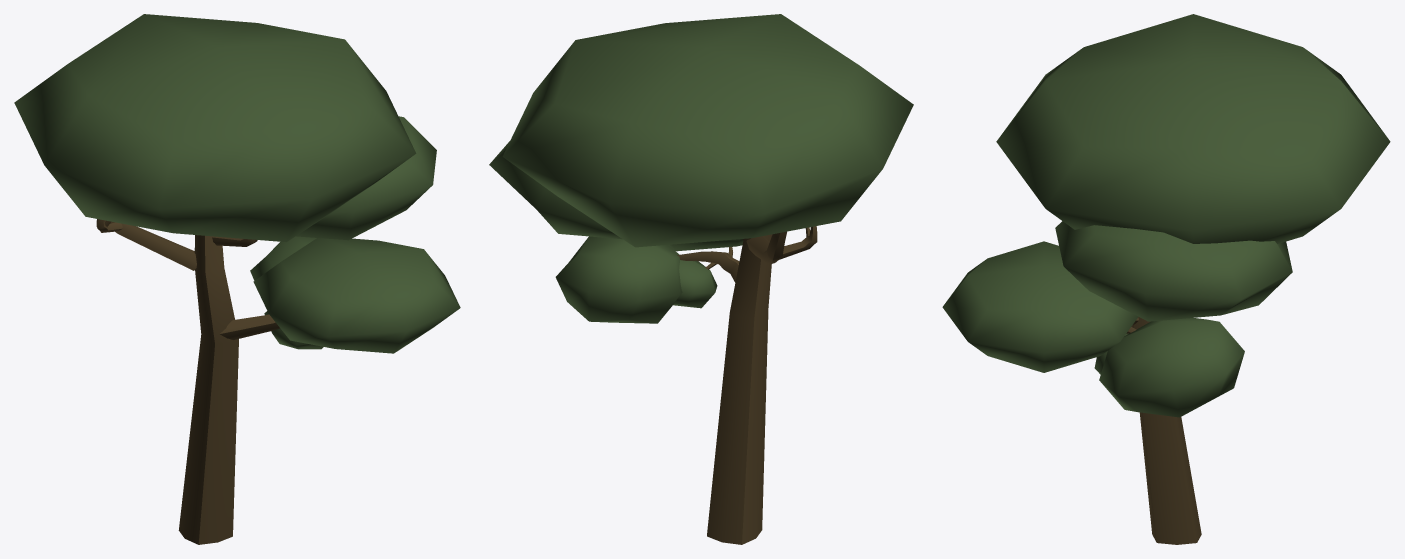
The model's file is arbre2.fbx.
The picture shows the model from 3 angles, left to right: view 1: azimuth 30°, elevation 25°; view 2: azimuth 150°, elevation 25°; view 3: azimuth 270°, elevation 25°; orthographic projection. The views are drawn at different scales.
Parts seen in each view (by area): view 1: arbre3_pCube2; view 2: arbre3_pCube2; view 3: arbre3_pCube2.
Part boxes in pixels (box(x1,y1,x2,y2)): arbre3_pCube2: box(14, 14, 460, 544); arbre3_pCube2: box(489, 14, 913, 544); arbre3_pCube2: box(942, 14, 1390, 544).
Size of the model in its own units: 5.94 by 7.32 by 6.15.
